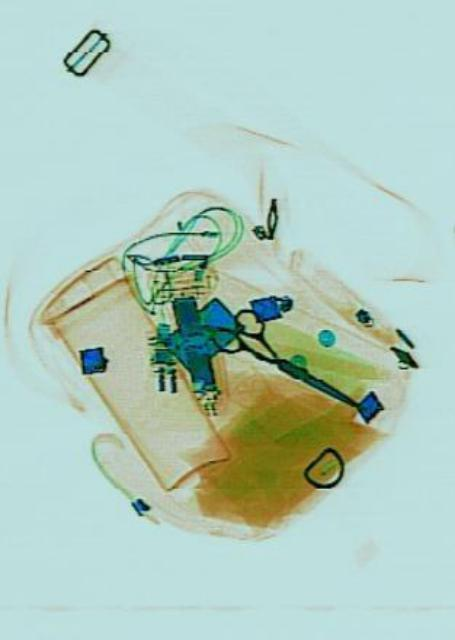Scissors: (205, 290, 368, 434)
